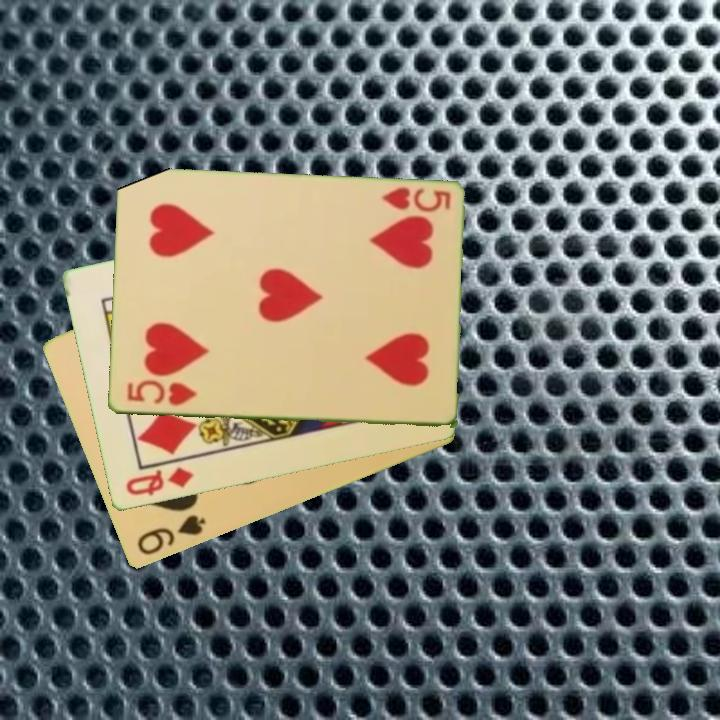5h: (123, 377, 199, 409), (377, 184, 454, 215)
9s: (133, 511, 209, 559)
Qd: (122, 463, 197, 500)
